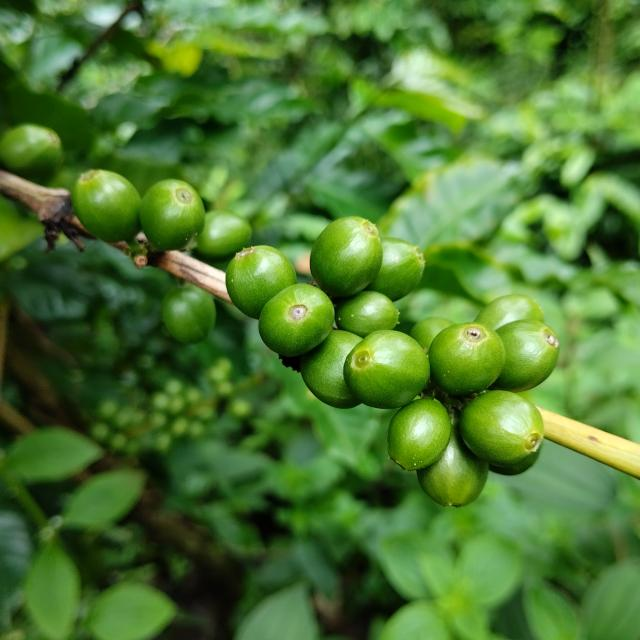green: (460, 391, 545, 476), (344, 330, 431, 409), (310, 216, 383, 298), (417, 426, 489, 508), (429, 322, 506, 396), (259, 284, 334, 357), (226, 245, 297, 319), (71, 169, 141, 242), (491, 320, 560, 392), (300, 330, 362, 409), (139, 179, 205, 251), (388, 398, 452, 471), (365, 238, 425, 301), (0, 123, 62, 180), (161, 284, 216, 344), (335, 291, 399, 338), (196, 210, 252, 259), (475, 294, 545, 331), (410, 318, 455, 353)
